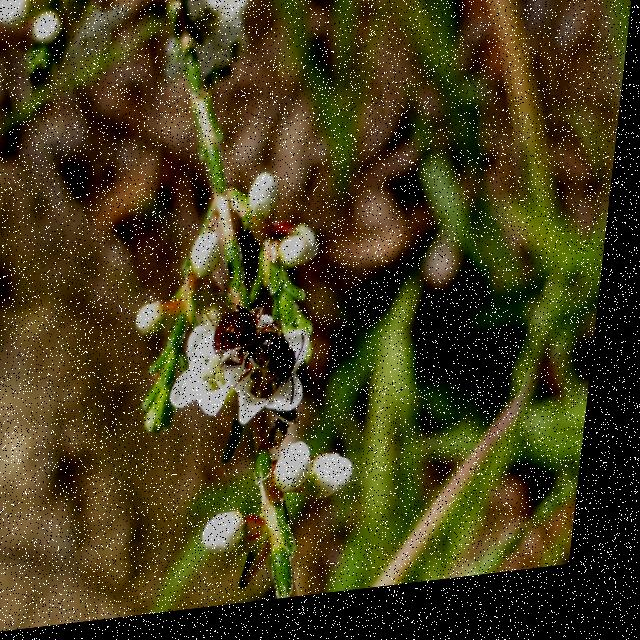Braunsapis: (193, 279, 340, 440)
